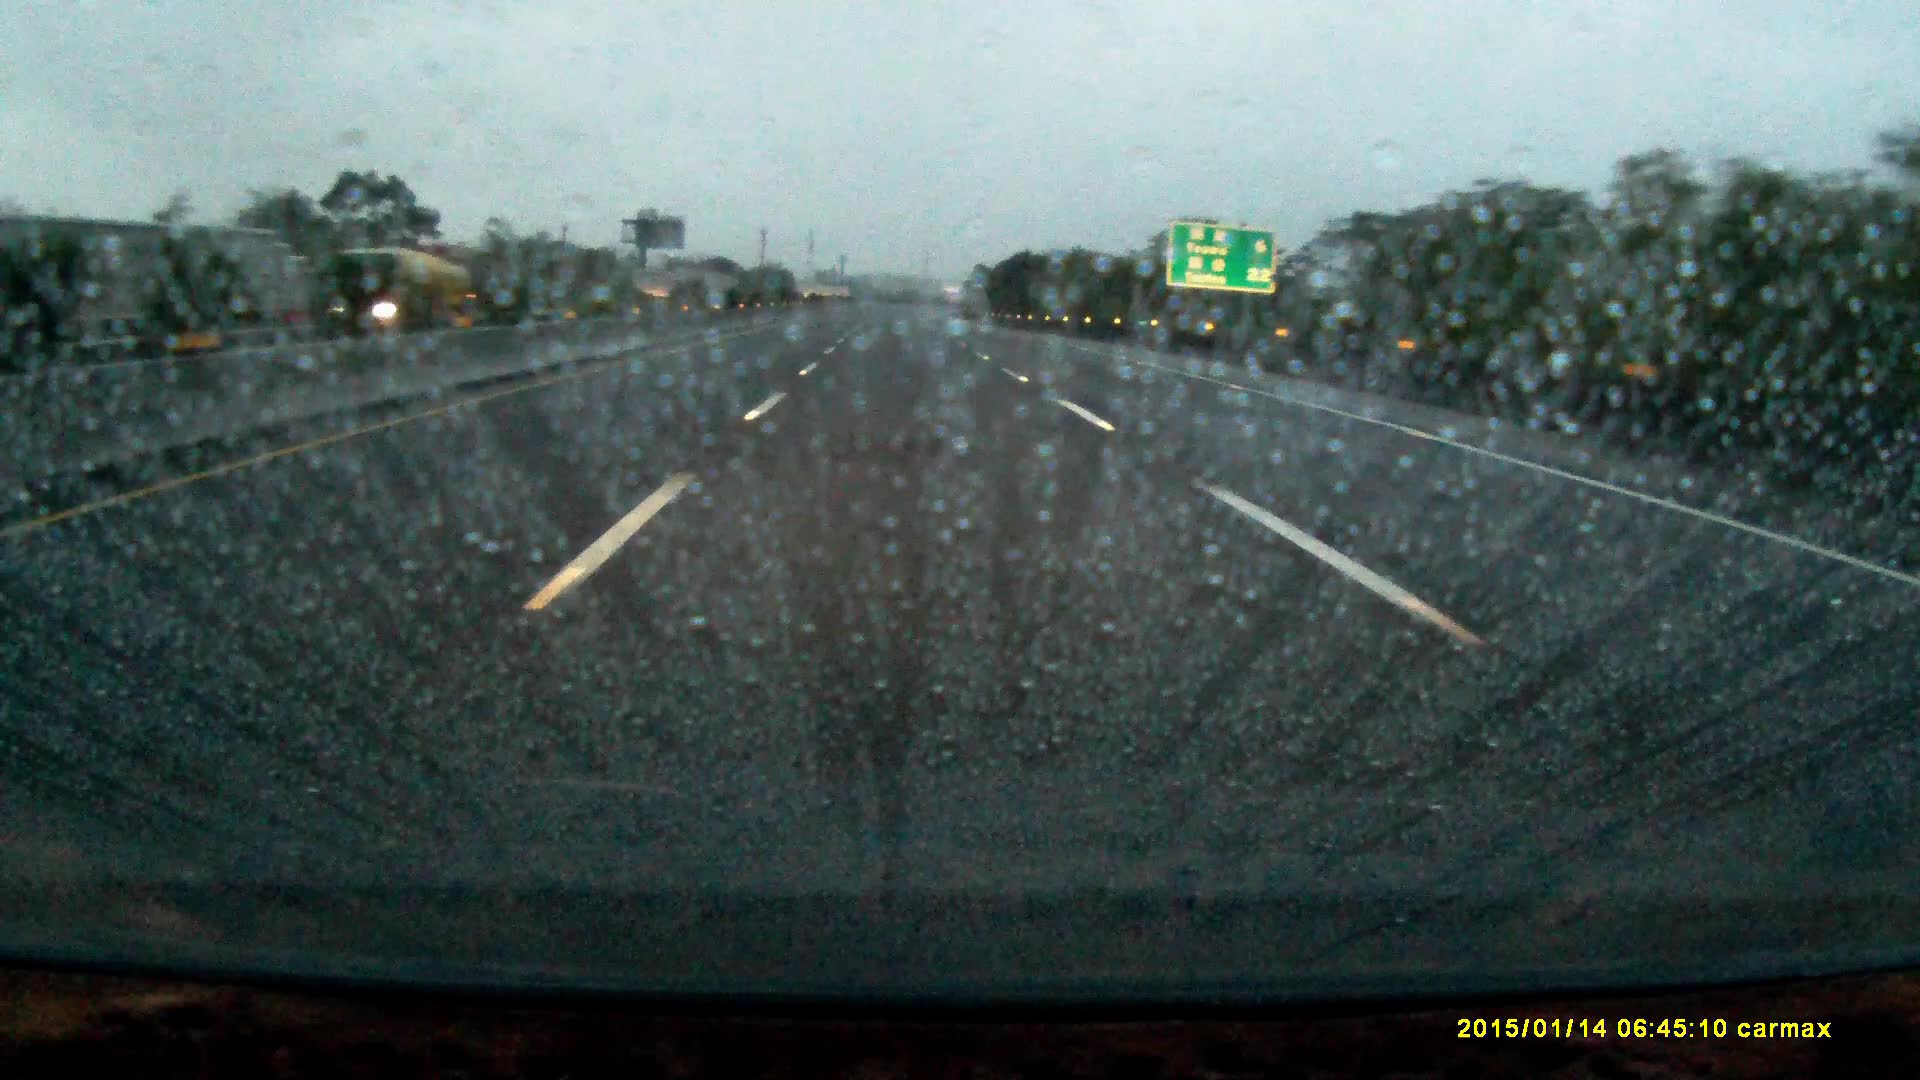vehicle: (313, 248, 476, 327)
